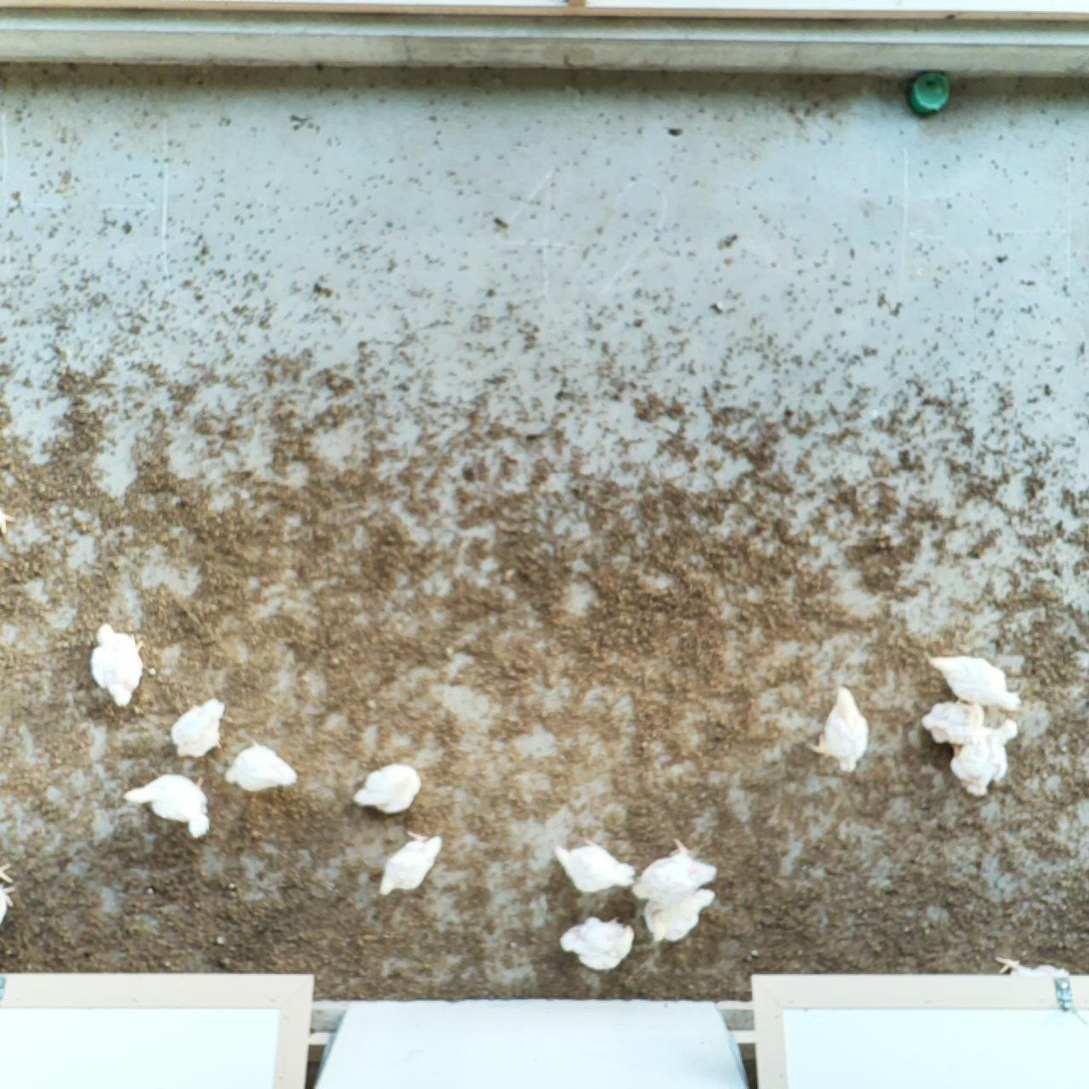chicken: (121, 768, 216, 845), (925, 649, 1026, 717), (947, 715, 1025, 803), (631, 833, 720, 908), (804, 679, 872, 776), (87, 617, 146, 710), (551, 832, 637, 895), (375, 823, 446, 898), (349, 758, 427, 822), (557, 910, 636, 972), (639, 887, 718, 949), (221, 737, 301, 793), (169, 692, 229, 759), (918, 695, 988, 751)
